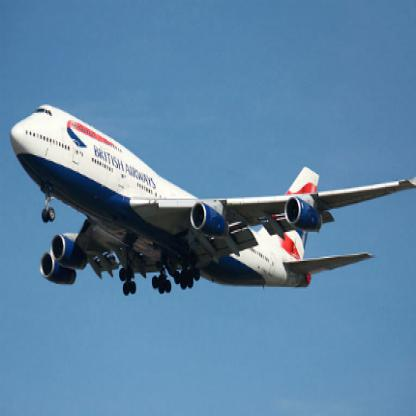CIV_Plane: (4, 100, 415, 314)
